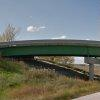Bridge: (2, 31, 97, 68)
